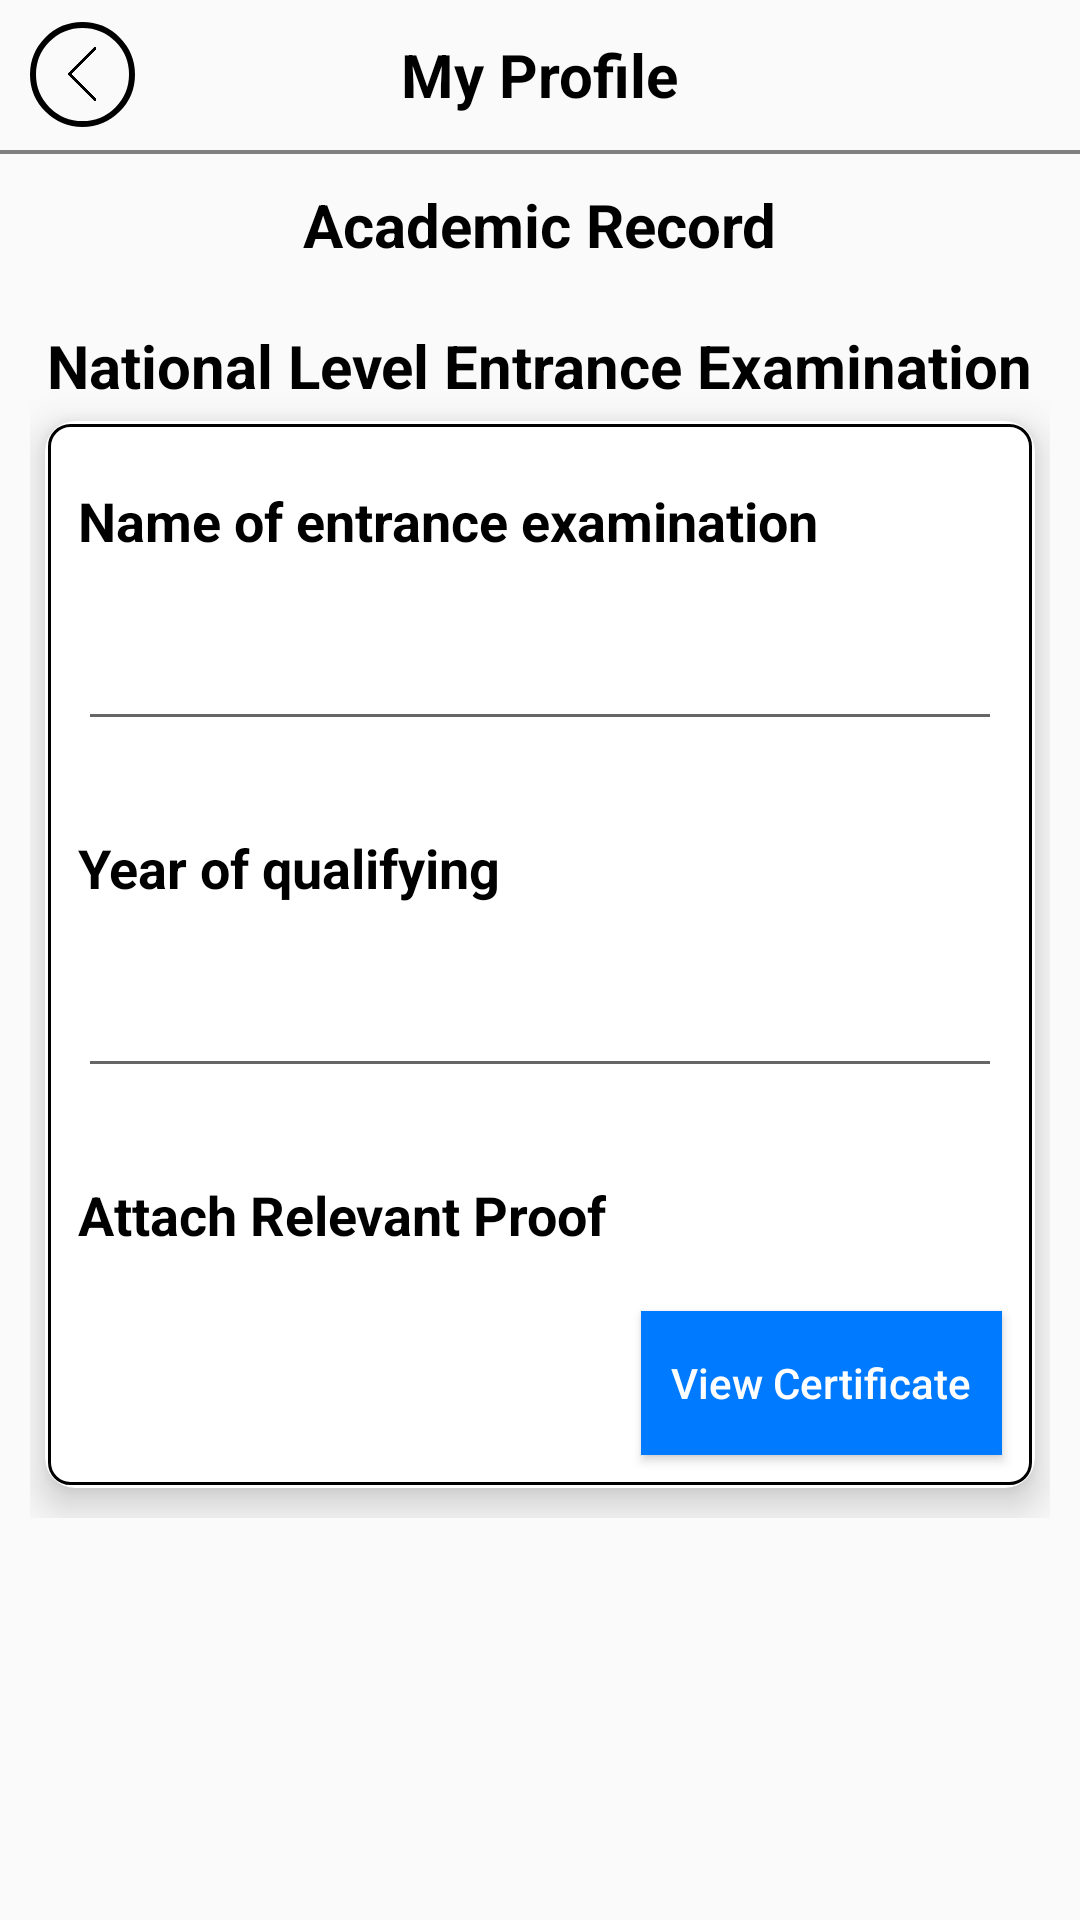

Icons on this 1080*1920 Android screen, each with the point to tap as point (x, y):
back: point (82, 74)
